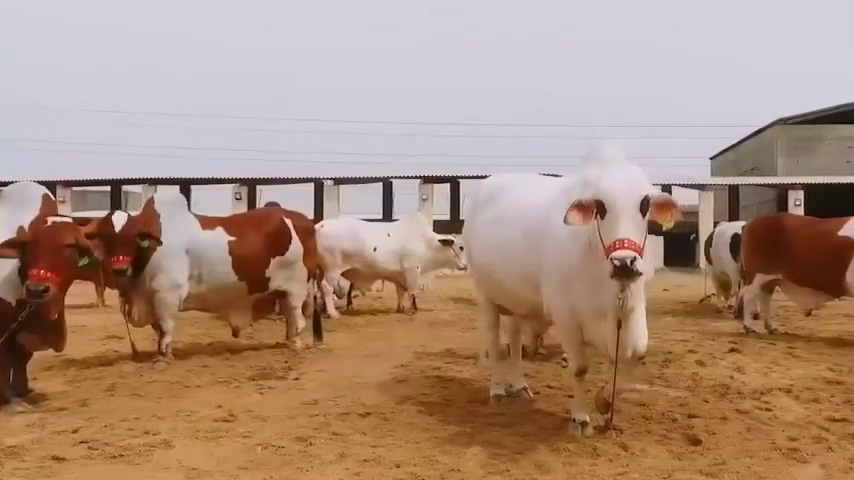bo: (459, 139, 688, 451), (83, 170, 330, 368), (2, 164, 97, 427), (302, 180, 469, 326), (737, 201, 854, 350), (697, 200, 747, 314)
